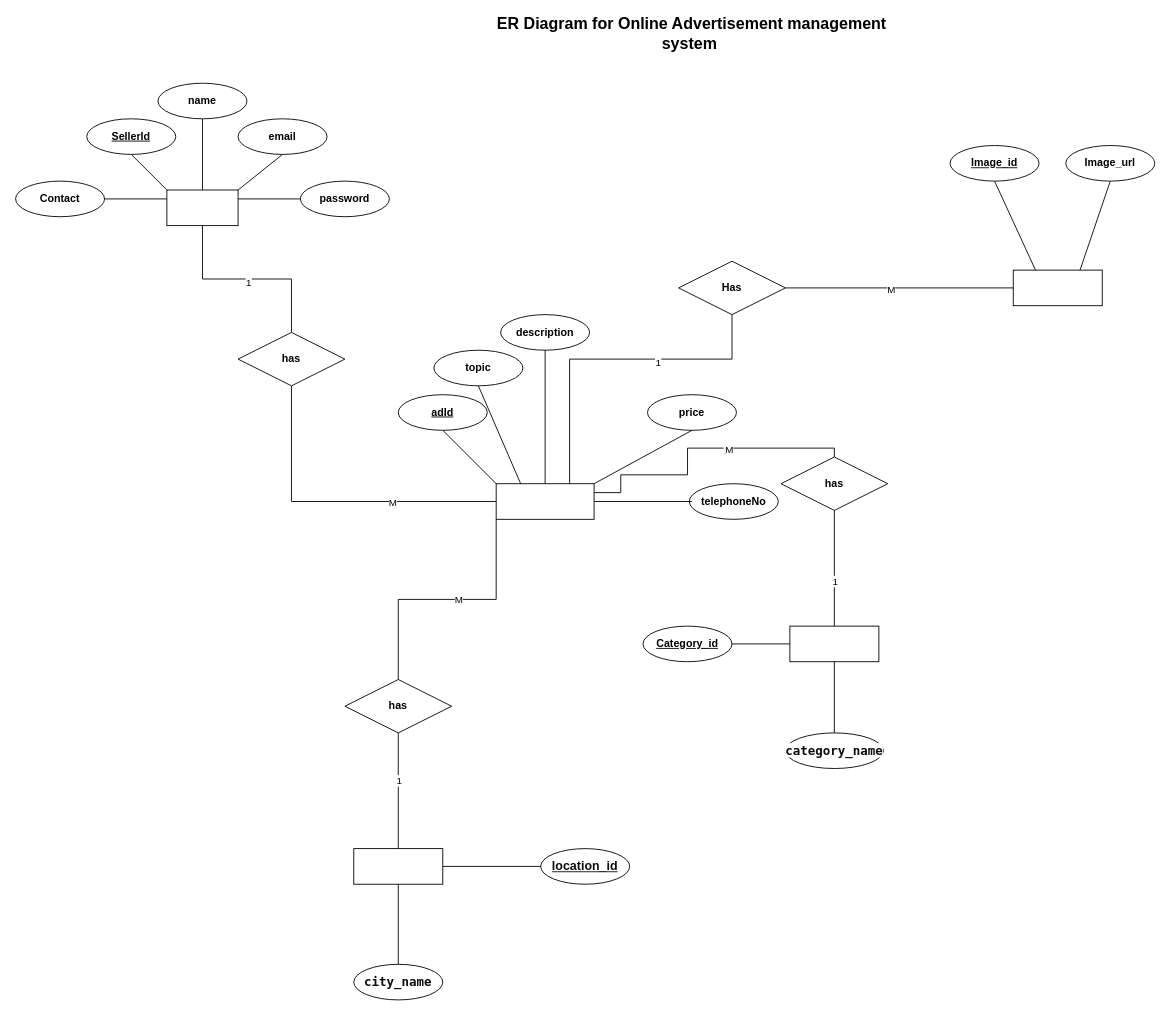
Image size: 1170x1015. Some labels were removed from this diagram. The centre of each missing label's shape, as x and y in pixels:
"Advertisement" belongs at (544,501).
"Category" belongs at (834,643).
"Image" belongs at (1057,287).
"location" belongs at (398,866).
"Seller" belongs at (202,207).
